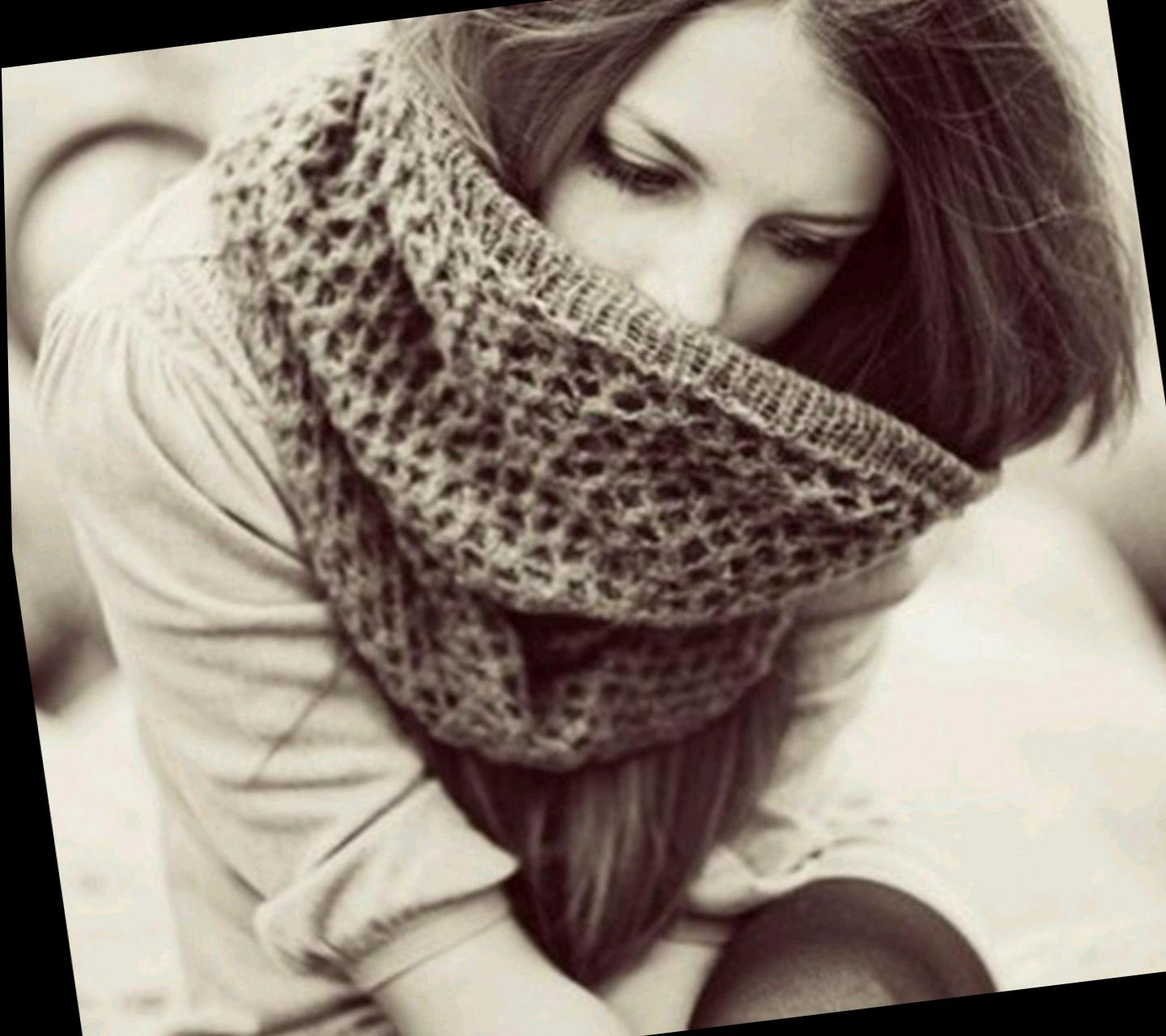WRONG: (462, 26, 908, 445)
